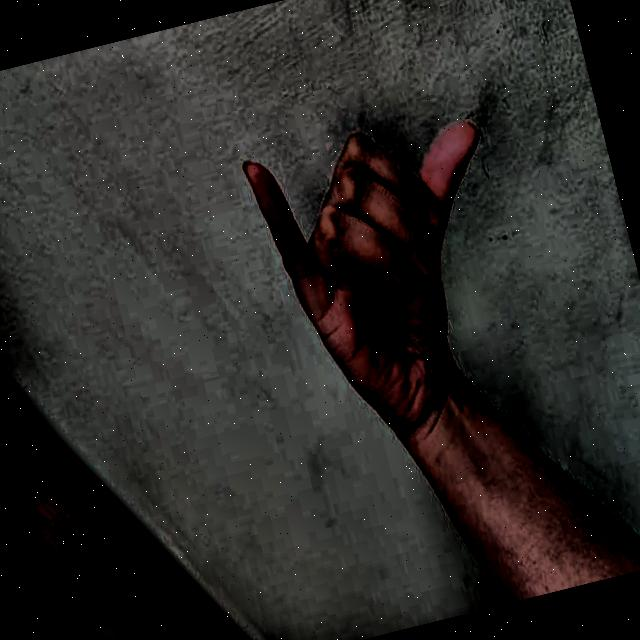Oi: (204, 48, 581, 490)
